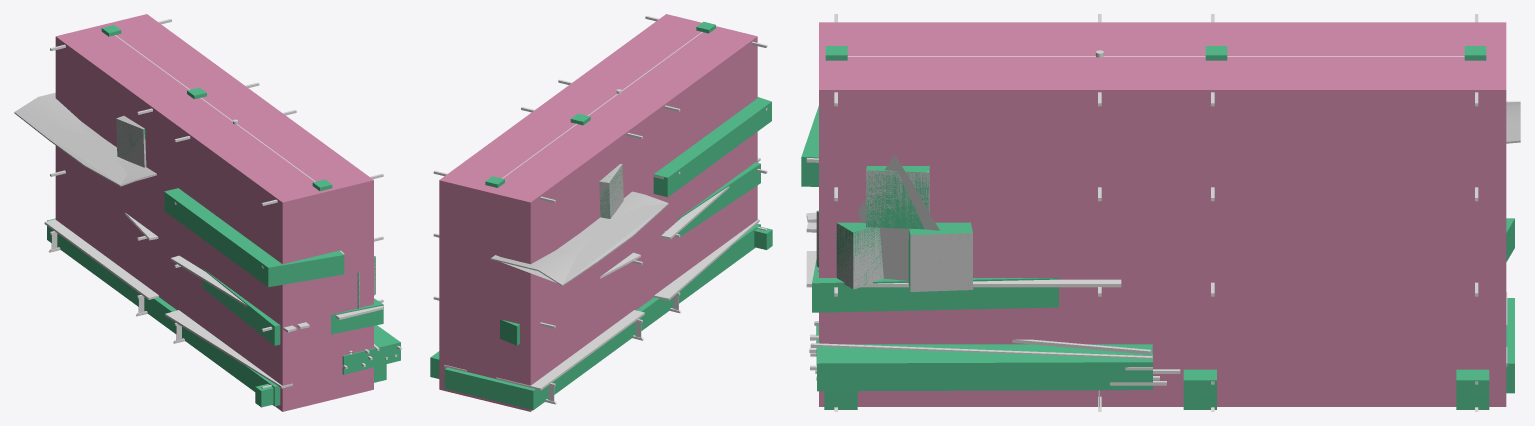
The model's file is ind_obj_02_b.dae.
The picture shows the model from 3 angles, left to right: view 1: azimuth 30°, elevation 25°; view 2: azimuth 150°, elevation 25°; view 3: azimuth 270°, elevation 25°; orthographic projection. The views are drawn at different scales.
Visible parts, largest first — view 1: Untitled, Colmesh-1, tree_oak_bush_a300, tree_oak_bush_a20, tree_oak_bush_a100; view 2: Untitled, Colmesh-1, tree_oak_bush_a300, tree_oak_bush_a20, tree_oak_bush_a100; view 3: Untitled, Colmesh-1, tree_oak_bush_a300, tree_oak_bush_a20.
Part boxes in pixels (x1,y1,x2,y2): Untitled: (55, 14, 373, 411); Colmesh-1: (47, 25, 400, 407); tree_oak_bush_a300: (14, 19, 401, 407); tree_oak_bush_a20: (15, 112, 383, 386); tree_oak_bush_a100: (51, 132, 375, 340); Untitled: (439, 14, 757, 411); Colmesh-1: (430, 21, 772, 410); tree_oak_bush_a300: (433, 15, 767, 404); tree_oak_bush_a20: (491, 164, 758, 388); tree_oak_bush_a100: (554, 159, 758, 400); Untitled: (819, 22, 1506, 406); Colmesh-1: (801, 46, 1514, 409); tree_oak_bush_a300: (806, 14, 1520, 411); tree_oak_bush_a20: (806, 101, 1520, 324).
Size of the model in its own units: 2.14 by 5.73 by 2.87.
